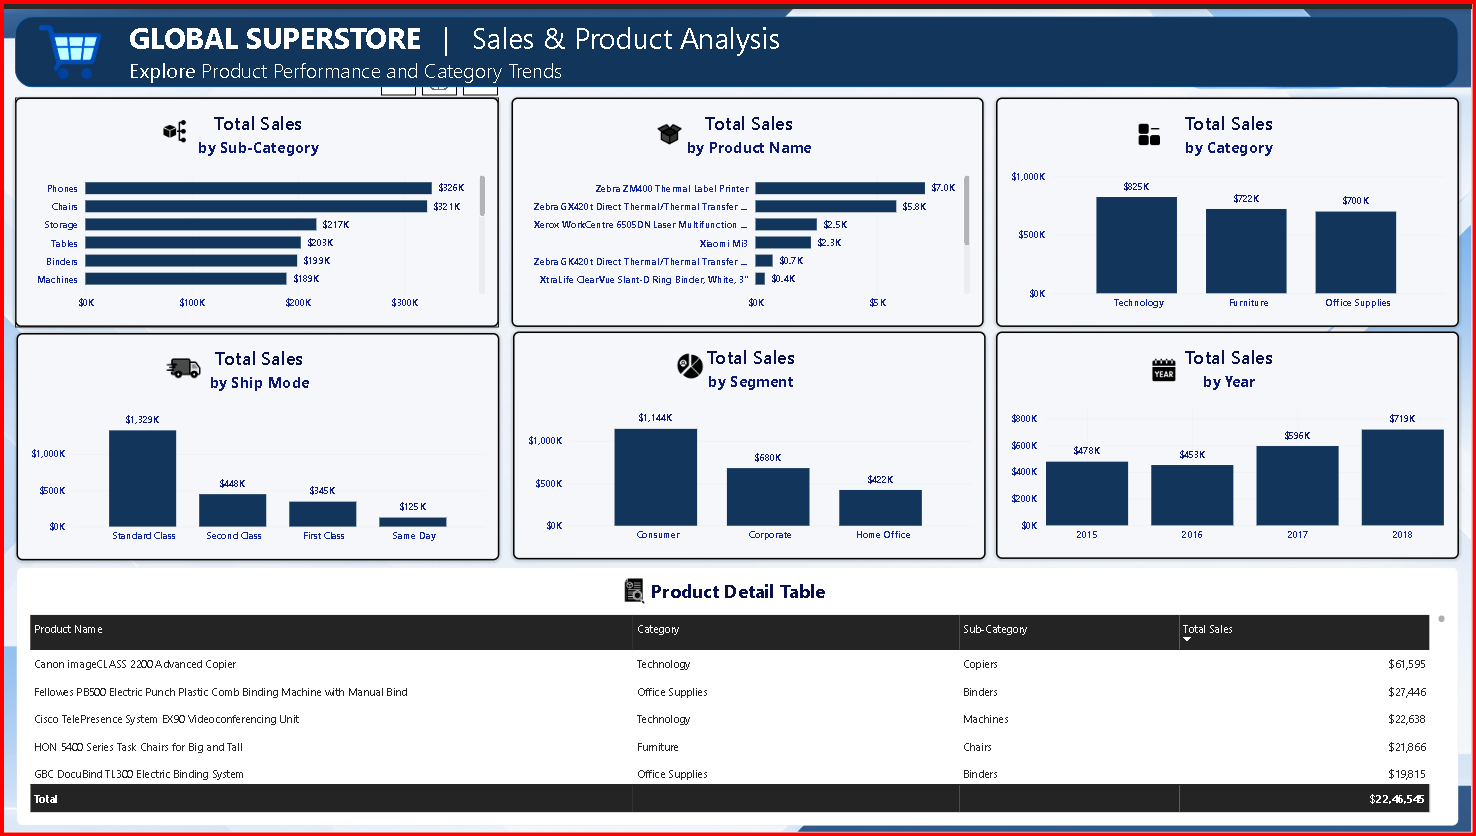

Layout of this report page (visuals, bound fields, positions):
{"tool":"powerbi","page":{"name":"Sales & Product Analysis","canvas":[1920,1080],"ordinal":1},"visuals":[{"type":"clusteredBarChart","fields":{"Category":["Global_Superstore_Cleaned.Sub-Category"],"Y":["Global_Superstore_Cleaned.Total Sales"]},"box":[15.7,115.7,632.9,300],"z":0},{"type":"shape","box":[15,10,1887.5,92.5],"z":1000},{"type":"clusteredColumnChart","fields":{"Category":["Global_Superstore_Cleaned.Category"],"Y":["Global_Superstore_Cleaned.Total Sales"]},"box":[1297.5,115,605,300],"z":2000},{"type":"clusteredBarChart","fields":{"Category":["Global_Superstore_Cleaned.Product Name"],"Y":["Global_Superstore_Cleaned.Total Sales"]},"box":[665,115,617.5,300],"z":3000},{"type":"clusteredColumnChart","fields":{"Category":["Date_Table.Year"],"Y":["Global_Superstore_Cleaned.Total Sales"]},"box":[1297.5,422.5,605,297.5],"z":4000},{"type":"clusteredColumnChart","fields":{"Category":["Global_Superstore_Cleaned.Segment"],"Y":["Global_Superstore_Cleaned.Total Sales"]},"box":[666,422,618,298],"z":5000},{"type":"clusteredColumnChart","fields":{"Category":["Global_Superstore_Cleaned.Ship Mode"],"Y":["Global_Superstore_Cleaned.Total Sales"]},"box":[17.1,422.9,631.4,297.1],"z":6000},{"type":"tableEx","title":"Product Detail Table","fields":{"Values":["Global_Superstore_Cleaned.Product Name","Global_Superstore_Cleaned.Category","Global_Superstore_Cleaned.Sub-Category","Global_Superstore_Cleaned.Total Sales"]},"box":[17.5,730,1885,338],"z":7000},{"type":"textbox","box":[39.9,11.2,1840.1,97.5],"z":9000,"group":"g1"},{"type":"image","box":[17.5,11.2,139.6,89],"z":10000,"group":"g1"},{"type":"group","id":"g1","title":"Group 2","box":[17.5,11.2,1862.5,97.5],"z":12000},{"type":"image","box":[183.3,143.3,83.3,33.3],"z":13000},{"type":"image","box":[830,146.7,83.3,33.3],"z":14000},{"type":"image","box":[1456.7,150,83.3,30],"z":15000},{"type":"image","box":[196.7,453.3,80,33.3],"z":16000},{"type":"image","box":[857.5,450,82.5,35],"z":17000},{"type":"image","box":[1473.3,456.7,90,30],"z":18000},{"type":"image","box":[785,742.5,82.5,35],"z":19000}]}

Visuals, with their boxes in screenshot pixels (x1, y1, x2, y2), scaled from the page's 1920x1080 canvas onto the 1476x836 screenshot:
clusteredBarChart - Global_Superstore_Cleaned.Sub-Category x Global_Superstore_Cleaned.Total Sales: [left=12, top=90, right=499, bottom=322]
shape: [left=12, top=8, right=1463, bottom=79]
clusteredColumnChart - Global_Superstore_Cleaned.Category x Global_Superstore_Cleaned.Total Sales: [left=997, top=89, right=1463, bottom=321]
clusteredBarChart - Global_Superstore_Cleaned.Product Name x Global_Superstore_Cleaned.Total Sales: [left=511, top=89, right=986, bottom=321]
clusteredColumnChart - Date_Table.Year x Global_Superstore_Cleaned.Total Sales: [left=997, top=327, right=1463, bottom=557]
clusteredColumnChart - Global_Superstore_Cleaned.Segment x Global_Superstore_Cleaned.Total Sales: [left=512, top=327, right=987, bottom=557]
clusteredColumnChart - Global_Superstore_Cleaned.Ship Mode x Global_Superstore_Cleaned.Total Sales: [left=13, top=327, right=499, bottom=557]
"Product Detail Table" tableEx: [left=13, top=565, right=1463, bottom=827]
textbox: [left=31, top=9, right=1445, bottom=84]
image: [left=13, top=9, right=121, bottom=78]
"Group 2" group: [left=13, top=9, right=1445, bottom=84]
image: [left=141, top=111, right=205, bottom=137]
image: [left=638, top=114, right=702, bottom=139]
image: [left=1120, top=116, right=1184, bottom=139]
image: [left=151, top=351, right=213, bottom=377]
image: [left=659, top=348, right=723, bottom=375]
image: [left=1133, top=354, right=1202, bottom=377]
image: [left=603, top=575, right=667, bottom=602]
